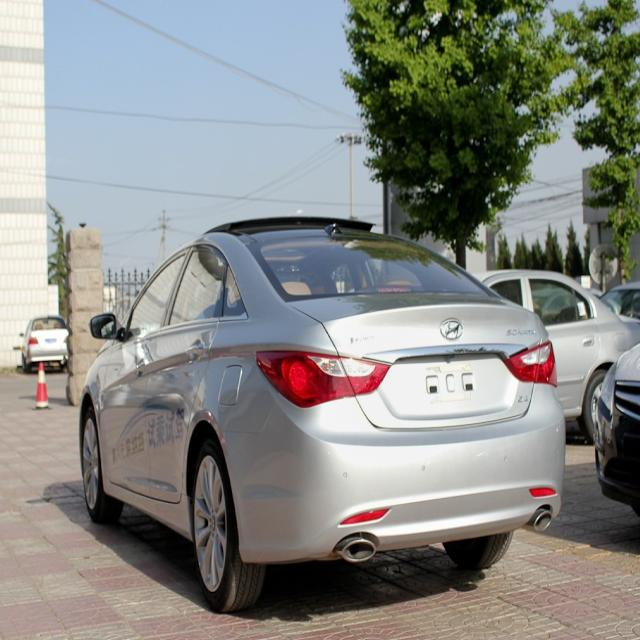back_glass: (238, 222, 496, 300)
back_left_side_light: (254, 342, 390, 410)
back_right_side_light: (505, 338, 558, 388)
front_left_side_door: (100, 247, 193, 495)
front_left_side_mirror: (89, 310, 125, 344)
rear_bumper: (229, 382, 564, 566)
wheel: (191, 441, 259, 611), (81, 410, 111, 517)
